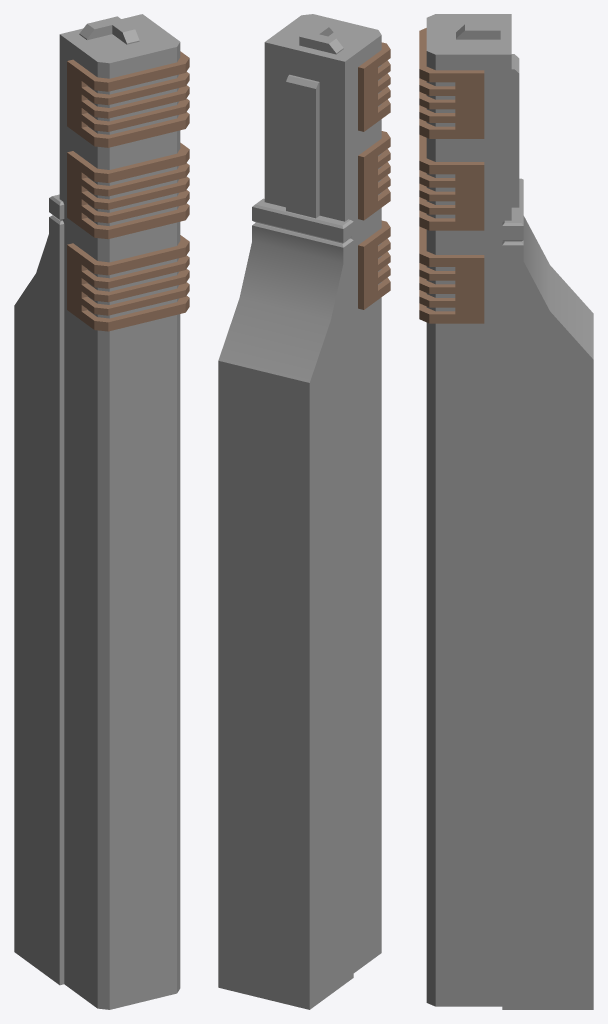
The model's file is building03.FBX.
The picture shows the model from 3 angles, left to right: view 1: azimuth 30°, elevation 25°; view 2: azimuth 150°, elevation 25°; view 3: azimuth 270°, elevation 25°; orthographic projection. The views are drawn at different scales.
Visible parts, largest first — view 1: Box003; view 2: Box003; view 3: Box003.
Boxes of the visible parts, x1,y1,x2,y2 form: Box003: (14,14,189,1009); Box003: (218,14,390,1009); Box003: (419,14,593,1009).
Size of the model in its own units: 45.09 by 430 by 70.68.
